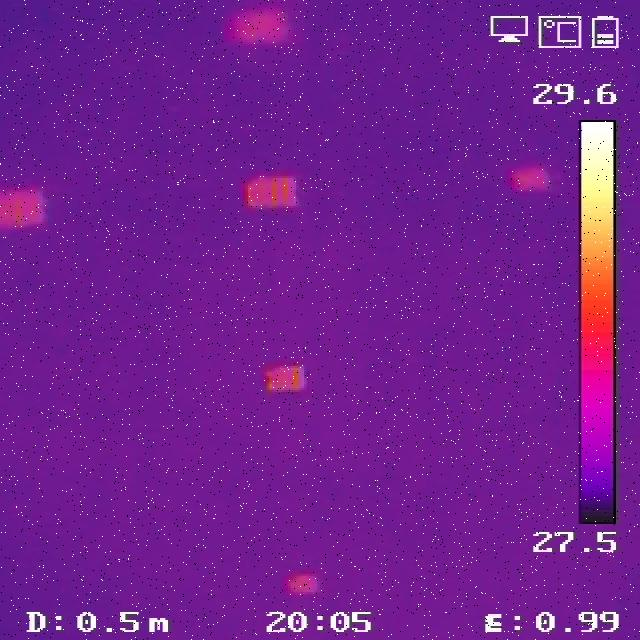Indistinguishable 4-bar target: (224, 10, 293, 44), (241, 173, 299, 211), (267, 366, 308, 392), (506, 167, 550, 191), (282, 569, 318, 592)
